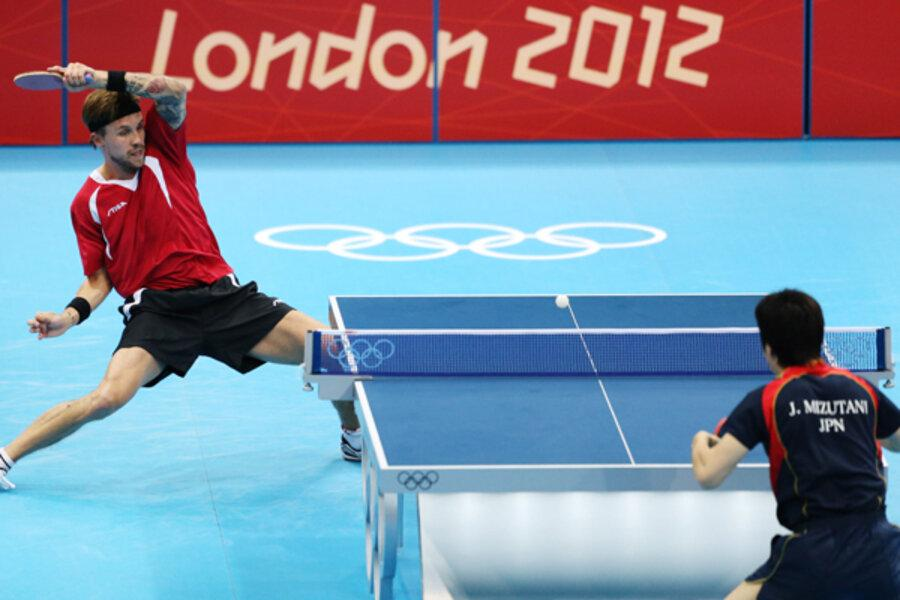ball_pingpong: (555, 292, 568, 309)
